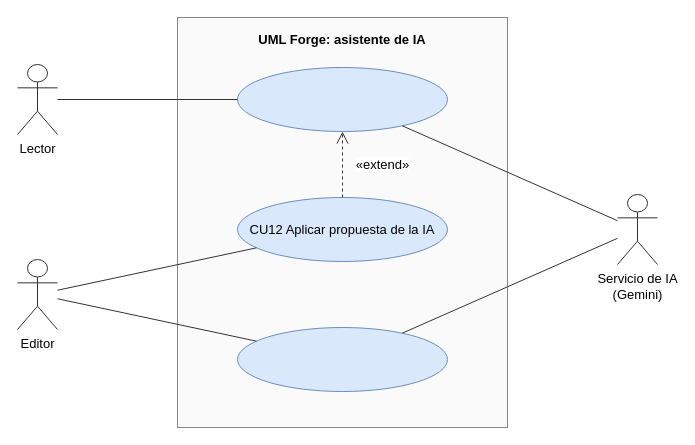
Image size: 695x445. Some labels were removed from this diagram. Here are the shapes that lost their labels. From the top down, the centre of each, then its label:
point 342,99: CU11 Conversar con la IA en el chat
point 342,359: CU13 Generar diagrama desde imagen o voz
